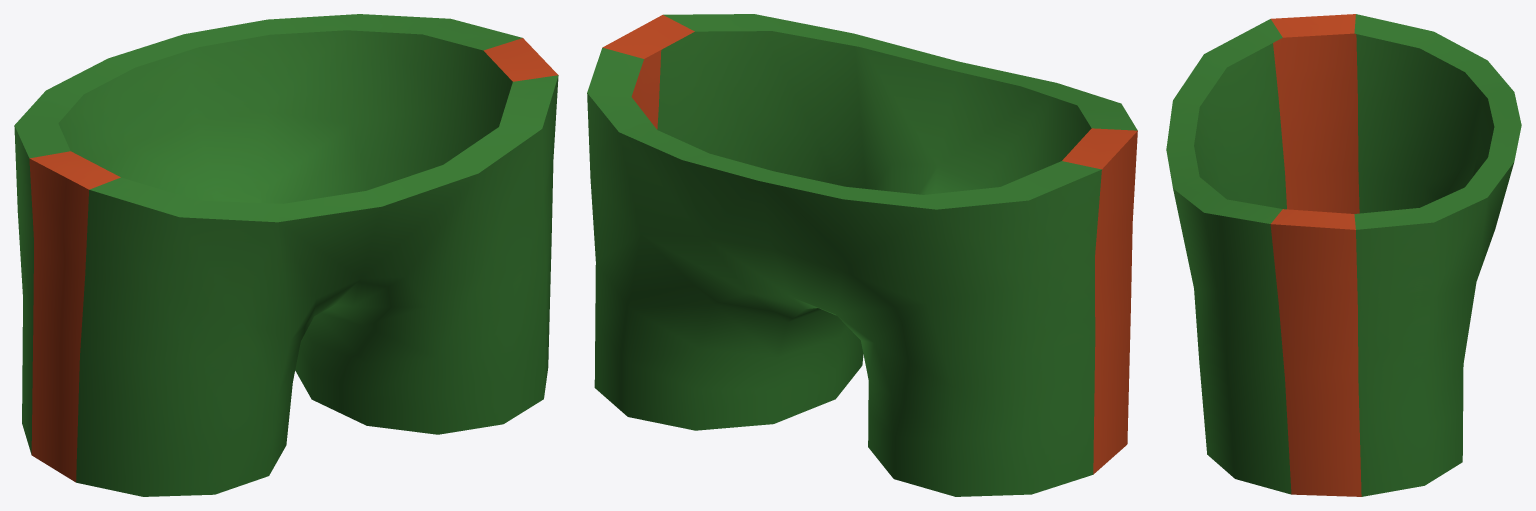
File: Shorts_03.glb
3 renders of one model, left to right at view 1: azimuth 30°, elevation 25°; view 2: azimuth 150°, elevation 25°; view 3: azimuth 270°, elevation 25°, orthographic. The views are drawn at different scales.
Parts seen in each view (by area): view 1: Shorts_03; view 2: Shorts_03; view 3: Shorts_03.
Part boxes in pixels (x1,y1,x2,y2): Shorts_03: (14, 14, 558, 496); Shorts_03: (587, 14, 1137, 496); Shorts_03: (1166, 14, 1521, 496).
Size of the model in its own units: 0.2368 by 0.1381 by 0.1647.
Materials: 1 (1 with a texture image).
